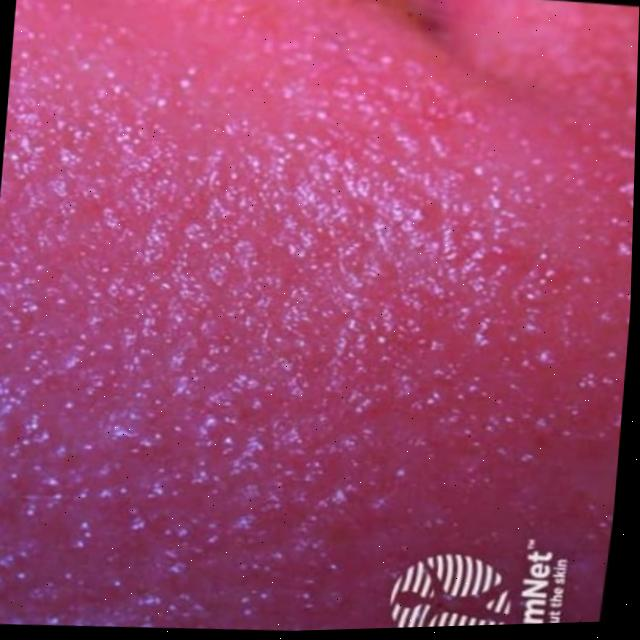Eczema: (0, 61, 507, 489)
